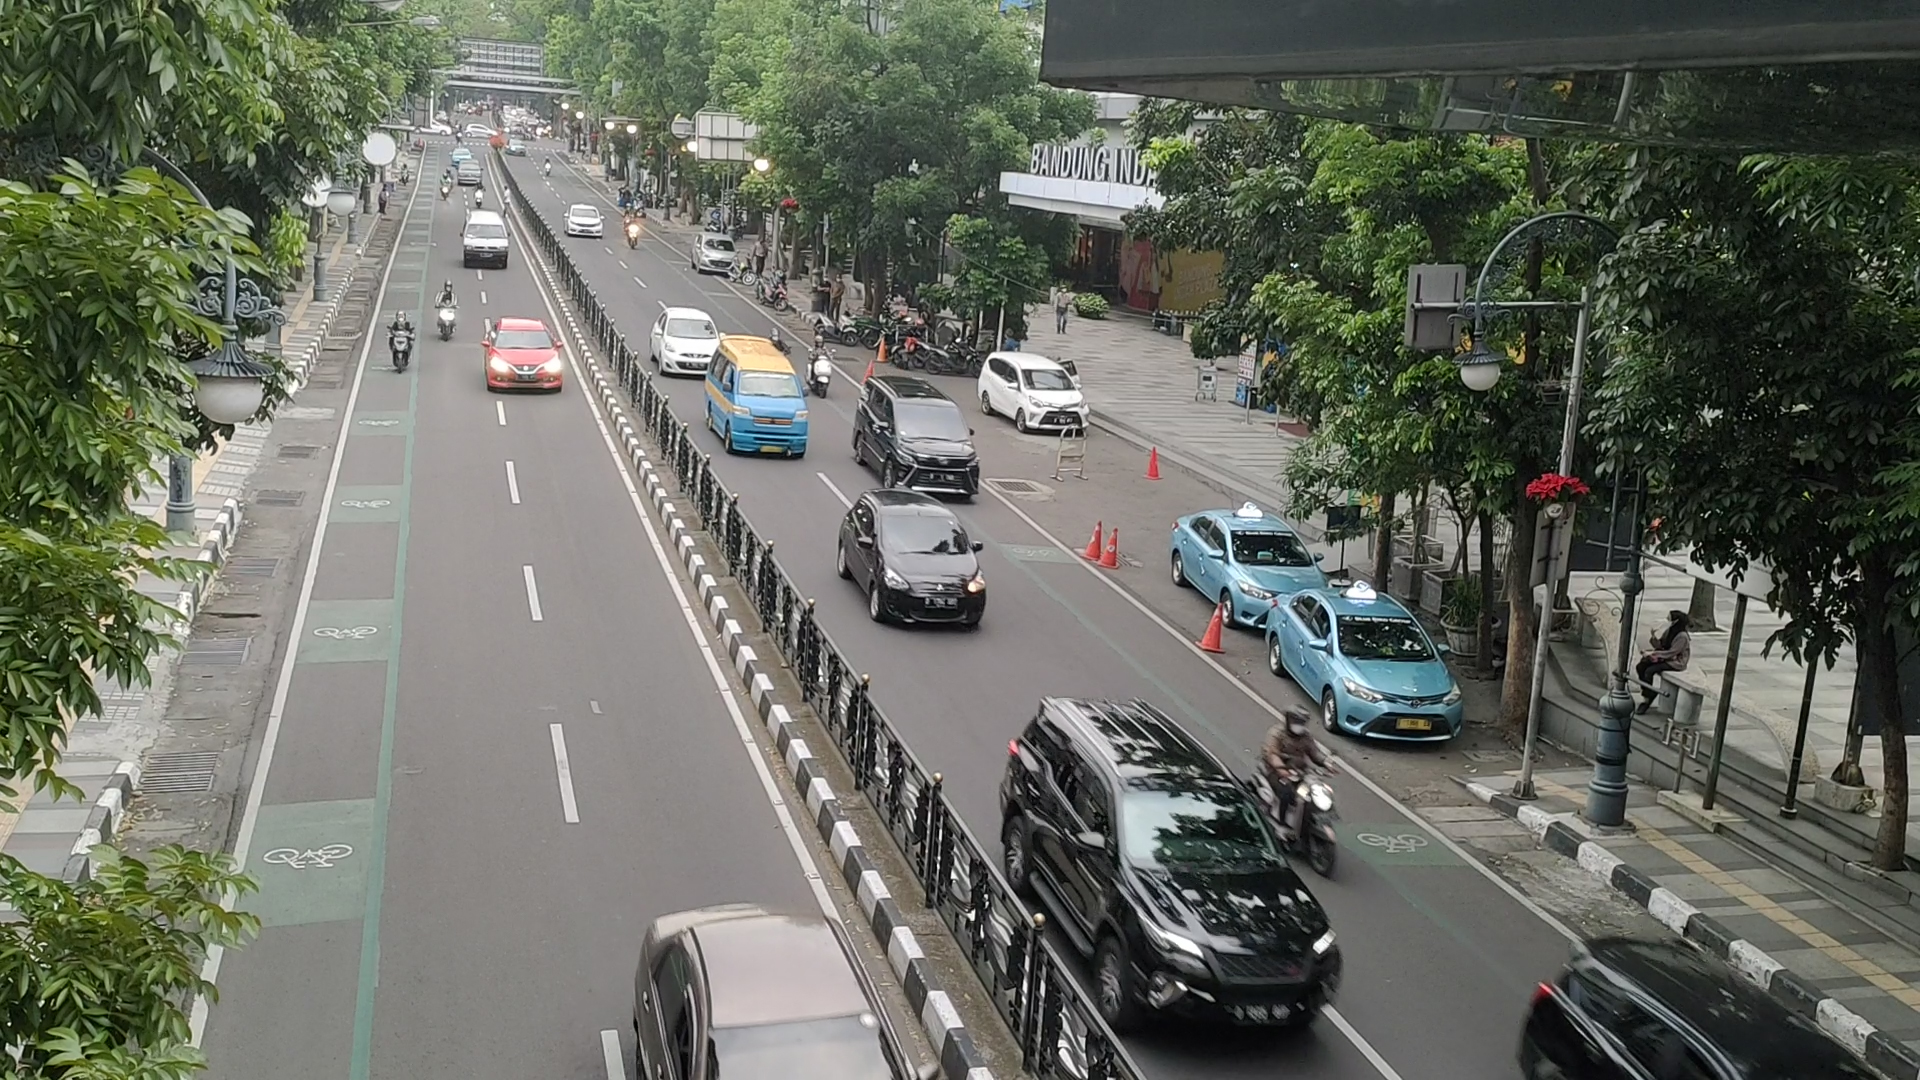mobil: (1105, 774, 1346, 1033), (1323, 613, 1466, 745), (869, 508, 986, 633), (882, 396, 978, 497), (727, 363, 808, 460), (1015, 360, 1095, 436), (487, 324, 563, 394)
motor: (1240, 694, 1356, 891)
